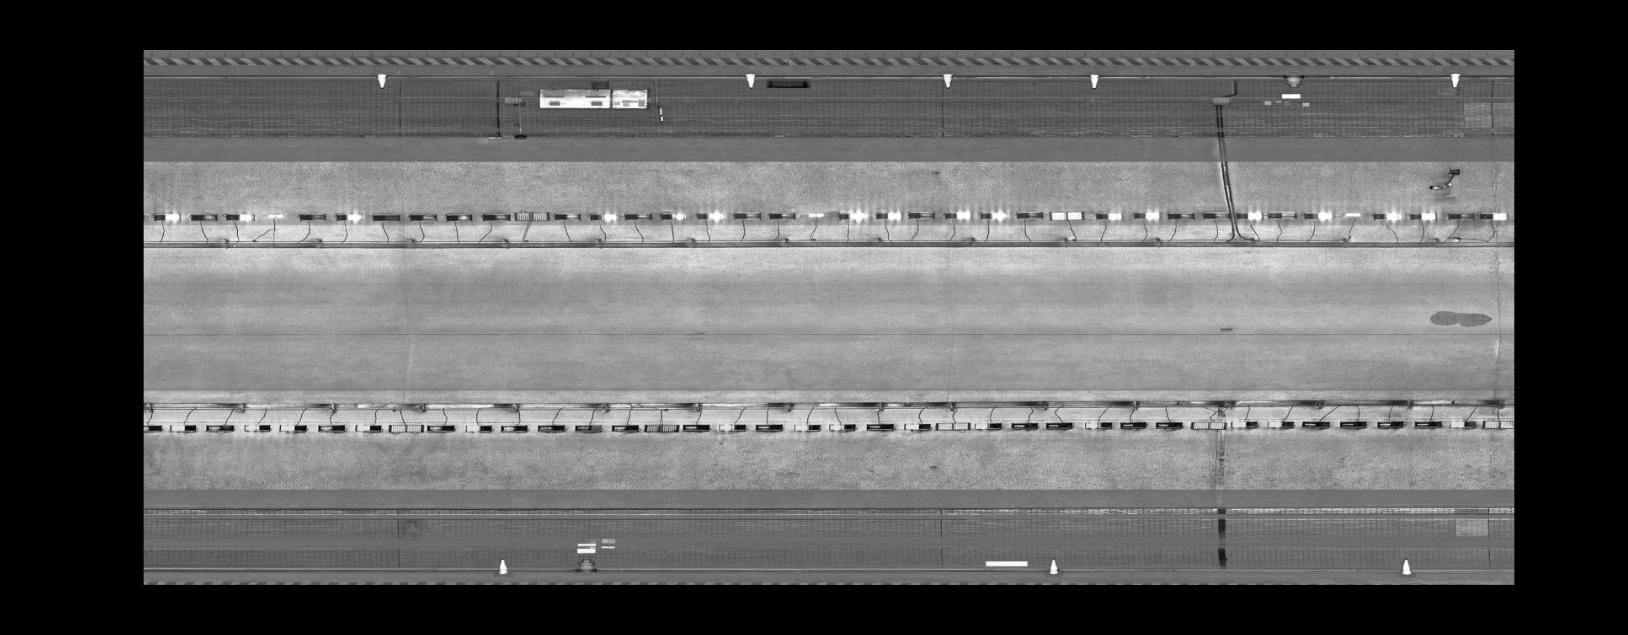light: (1046, 208, 1086, 223), (1187, 417, 1229, 432), (512, 208, 551, 223), (641, 420, 683, 434), (835, 206, 869, 223), (1130, 208, 1164, 223), (1478, 416, 1513, 432), (386, 420, 426, 434), (933, 419, 972, 433), (976, 206, 1009, 222), (1094, 208, 1127, 223), (478, 210, 514, 223), (221, 209, 257, 222), (350, 420, 386, 434), (152, 209, 183, 224), (1371, 209, 1404, 223), (872, 208, 905, 222), (1300, 208, 1335, 221), (441, 210, 477, 223), (1232, 206, 1265, 221), (405, 210, 439, 223), (296, 210, 330, 223), (899, 418, 933, 432), (863, 419, 897, 433), (276, 420, 310, 434), (369, 210, 402, 223), (333, 210, 367, 223), (825, 419, 859, 433), (572, 421, 605, 435), (463, 420, 496, 434), (1265, 208, 1300, 220), (1080, 418, 1115, 431), (164, 421, 199, 434), (905, 208, 938, 221), (694, 209, 726, 222), (587, 210, 619, 223), (551, 209, 584, 222), (187, 210, 219, 223), (535, 420, 567, 434), (1151, 418, 1186, 431), (1116, 418, 1150, 431), (715, 420, 750, 433), (202, 421, 237, 434), (1013, 208, 1044, 221), (1164, 209, 1197, 221), (1041, 418, 1075, 431), (424, 421, 457, 434), (241, 421, 274, 434), (942, 208, 972, 221), (766, 209, 798, 221), (731, 209, 763, 221), (1406, 210, 1440, 221), (1198, 210, 1232, 221), (1446, 417, 1481, 429), (752, 421, 786, 433), (658, 209, 689, 221), (316, 421, 347, 434), (1477, 210, 1511, 221), (1445, 210, 1478, 221), (1299, 418, 1332, 430), (791, 421, 824, 433), (679, 421, 712, 433), (499, 421, 530, 434), (621, 210, 653, 221), (1264, 418, 1296, 430), (1008, 419, 1040, 431), (972, 419, 1004, 431), (1411, 418, 1446, 429), (1335, 418, 1371, 429), (606, 422, 642, 433), (1374, 418, 1406, 429), (1228, 418, 1260, 429), (264, 210, 286, 220), (143, 420, 163, 432), (805, 210, 826, 218), (1342, 209, 1365, 216)
